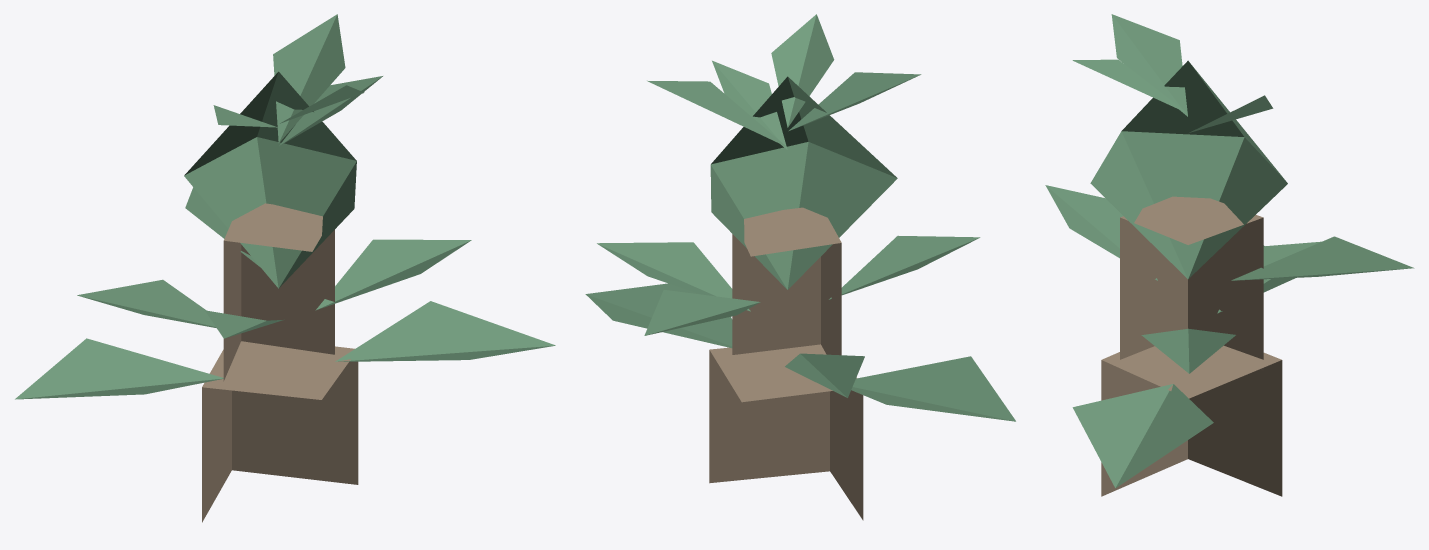
Rendered from shui.huwei@seedling__summer.glb.
3 renders of one model, left to right at view 1: azimuth 30°, elevation 25°; view 2: azimuth 150°, elevation 25°; view 3: azimuth 270°, elevation 25°, orthographic. The views are drawn at different scales.
Parts seen in each view (by area): view 1: shui.huwei@seedling__summer; view 2: shui.huwei@seedling__summer; view 3: shui.huwei@seedling__summer.
Part boxes in pixels (bbox=[...]): shui.huwei@seedling__summer: bbox=[15, 14, 555, 522]; shui.huwei@seedling__summer: bbox=[585, 14, 1015, 520]; shui.huwei@seedling__summer: bbox=[1045, 14, 1414, 496].
Size of the model in its own units: 0.1003 by 0.0874 by 0.065.
